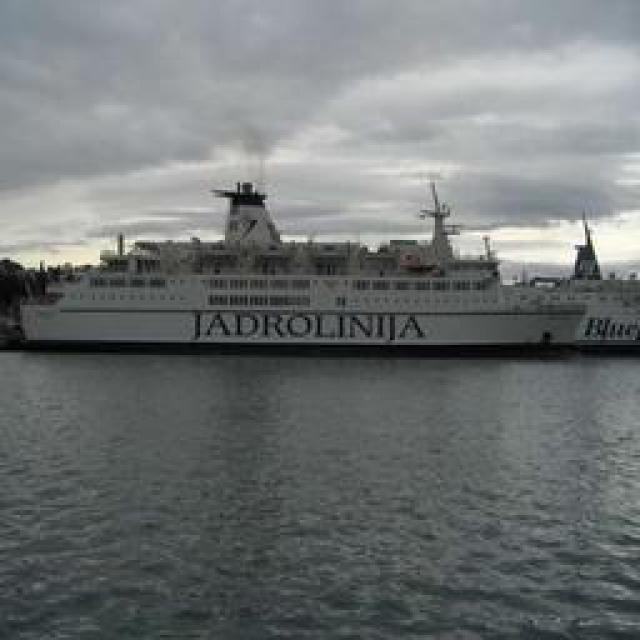Ship: (40, 172, 620, 352)
